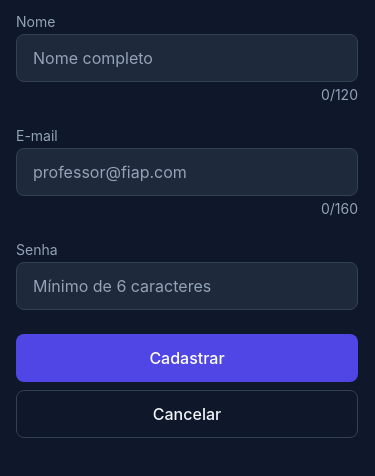
it: criação › recusa senha curta demais
Step 1. Type "Carla Dias" into the field labelled "Nome" → (187, 58), box [16,34,358,82]
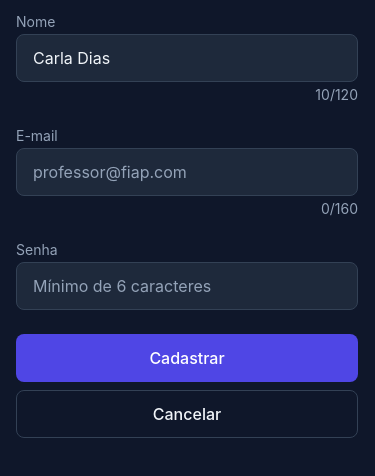
Step 2. Type "carla.dias@fiap.com" into the field named "E-mail" → (187, 172), box [16,148,358,196]
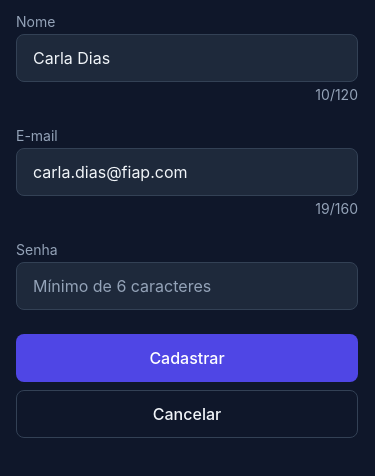
Step 3. Type "123" into the password field named "Senha" → (187, 286), box [16,262,358,310]
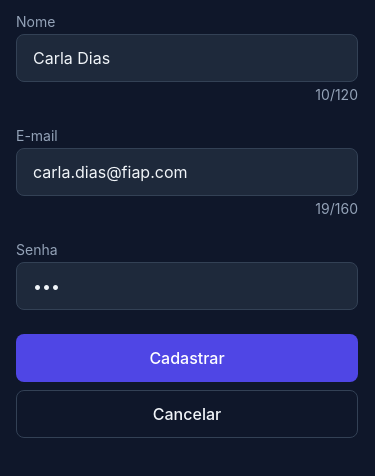
Step 4. Click the button "Cadastrar" → (187, 358), box [16,334,358,382]
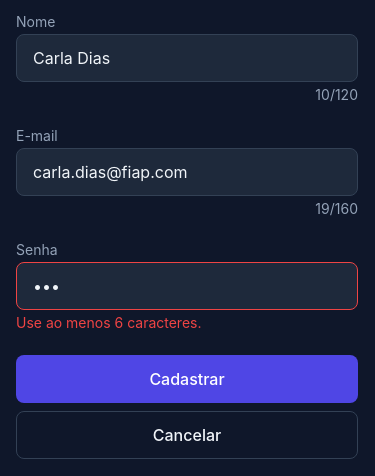
Now the text "Use ao menos 6 caracteres." is shown, box [16,314,202,331]
